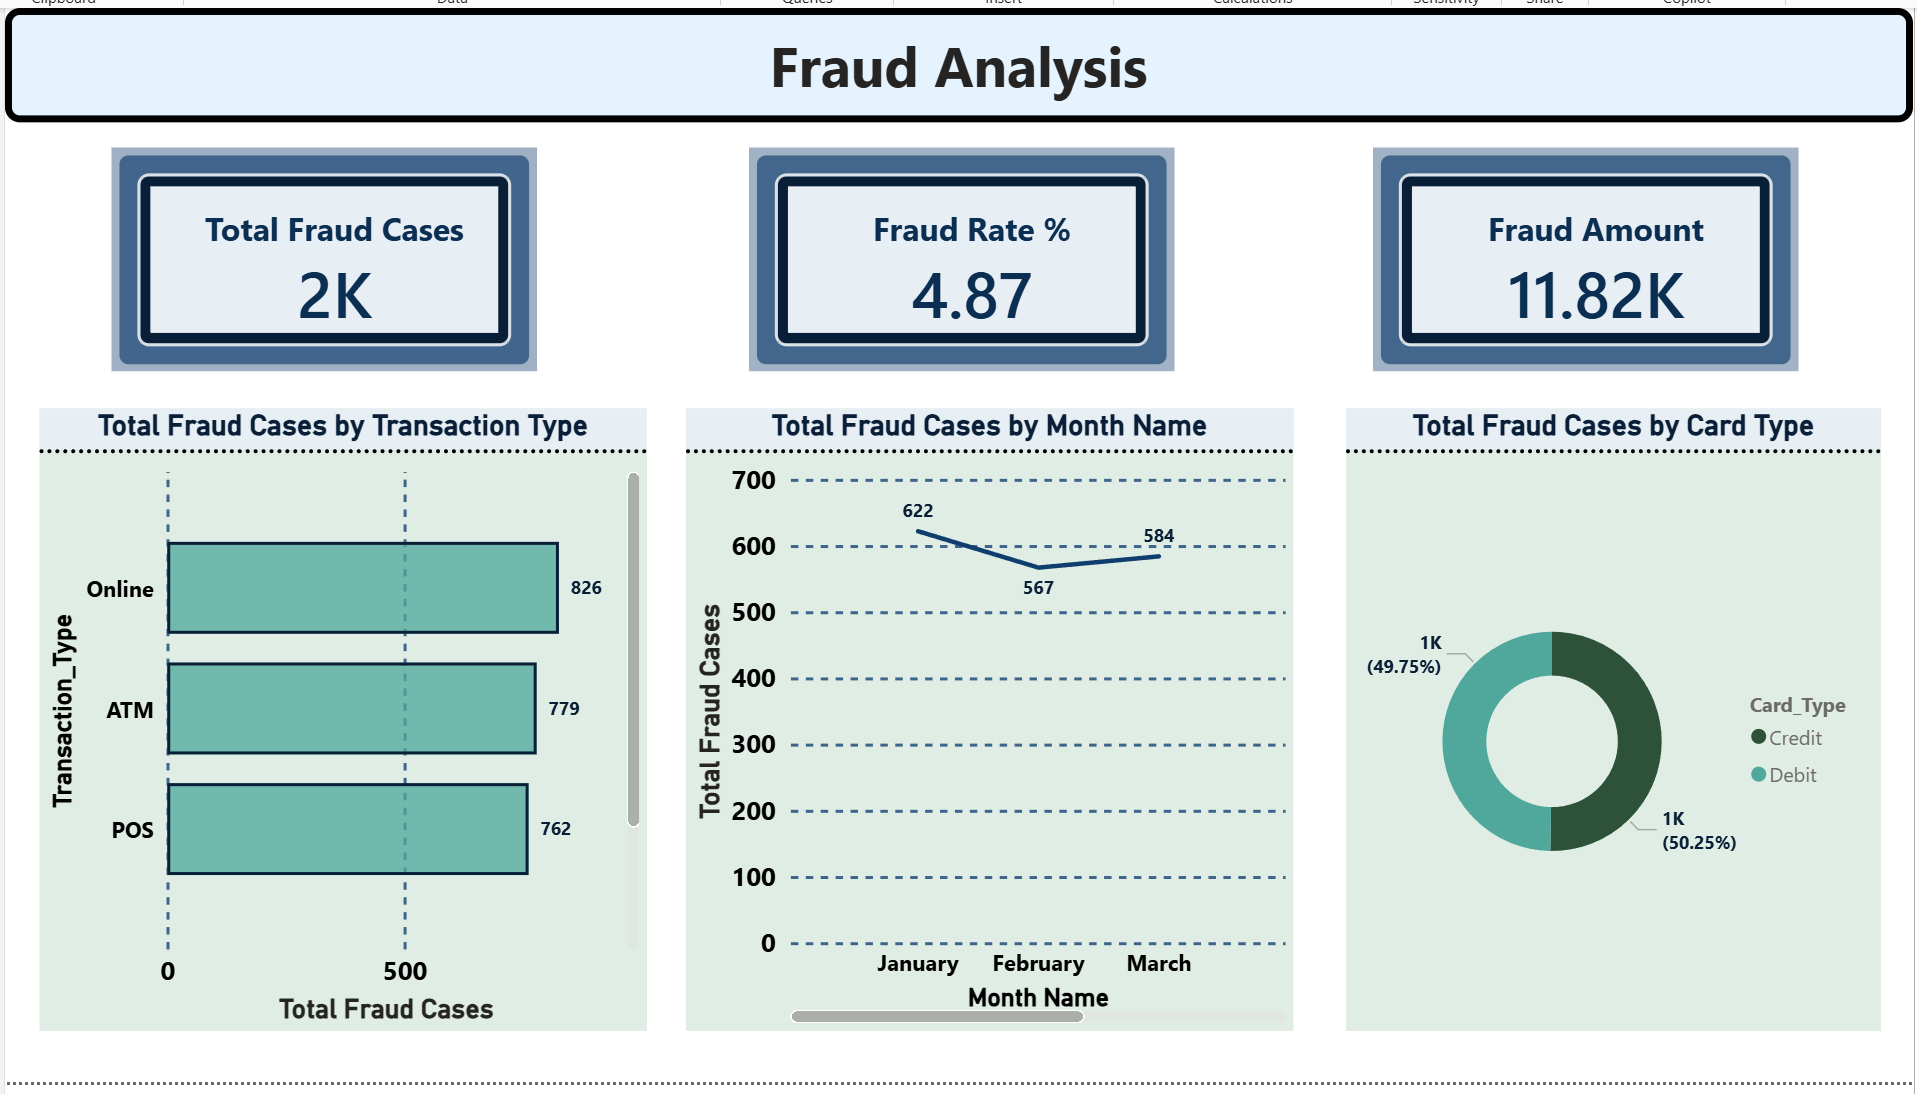

Layout of this report page (visuals, bound fields, positions):
{"tool":"powerbi","page":{"name":"Fraud Analysis","canvas":[1280,720],"ordinal":3},"visuals":[{"type":"textbox","box":[0,0,1279.5,76.7],"z":0},{"type":"cardVisual","fields":{"Data":["FactTransactions.Total Fraud Cases"]},"box":[71.7,93.4,285.2,150.1],"z":1000},{"type":"cardVisual","fields":{"Data":["FactTransactions.Fraud Rate %"]},"box":[498.8,93.4,285.2,150.1],"z":2000},{"type":"cardVisual","fields":{"Data":["FactTransactions.Fraud Amount"]},"box":[917.5,93.4,285.2,150.1],"z":3000},{"type":"clusteredBarChart","title":"Total Fraud Cases by Transaction Type","fields":{"Category":["FactTransactions.Transaction_Type"],"Y":["FactTransactions.Total Fraud Cases"]},"box":[23.4,268.6,407,417],"z":4000},{"type":"lineChart","fields":{"Category":["FactTransactions.Month Name"],"Y":["FactTransactions.Total Fraud Cases"]},"box":[457.1,268.6,407,417],"z":5000},{"type":"donutChart","title":"Total Fraud Cases by Card Type","fields":{"Category":["FactTransactions.Card_Type"],"Y":["FactTransactions.Total Fraud Cases"]},"box":[899.1,268.6,358.6,417],"z":6000}]}

Visuals, with their boxes on the page's 1280x720 design canvas (x1, y1, x2, y2). These are canvas units, not pixel positions in the 1917x1094 screenshot, which may show the page scaled, cropped or inside an application window:
textbox: detection(0, 0, 1280, 77)
cardVisual - FactTransactions.Total Fraud Cases: detection(72, 93, 357, 244)
cardVisual - FactTransactions.Fraud Rate %: detection(499, 93, 784, 244)
cardVisual - FactTransactions.Fraud Amount: detection(918, 93, 1203, 244)
"Total Fraud Cases by Transaction Type" clusteredBarChart: detection(23, 269, 430, 686)
lineChart - FactTransactions.Month Name x FactTransactions.Total Fraud Cases: detection(457, 269, 864, 686)
"Total Fraud Cases by Card Type" donutChart: detection(899, 269, 1258, 686)
